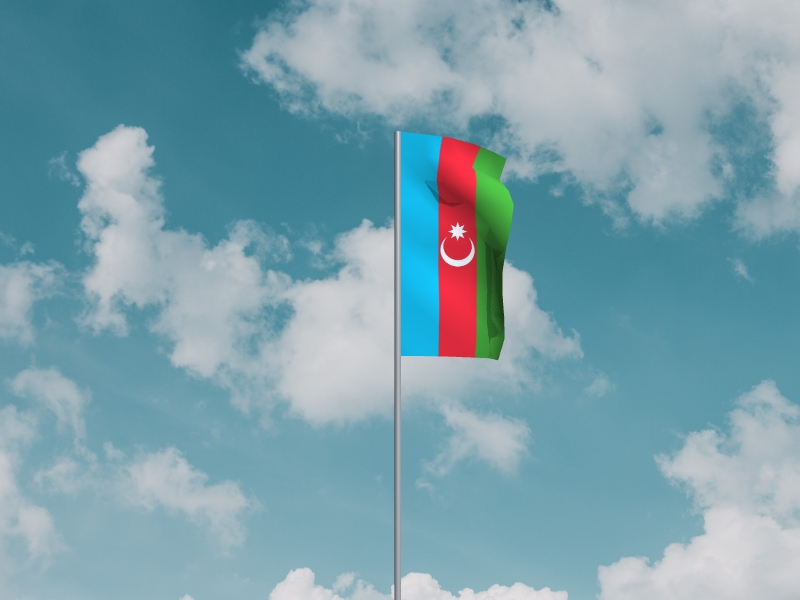az: (402, 132, 516, 362)
